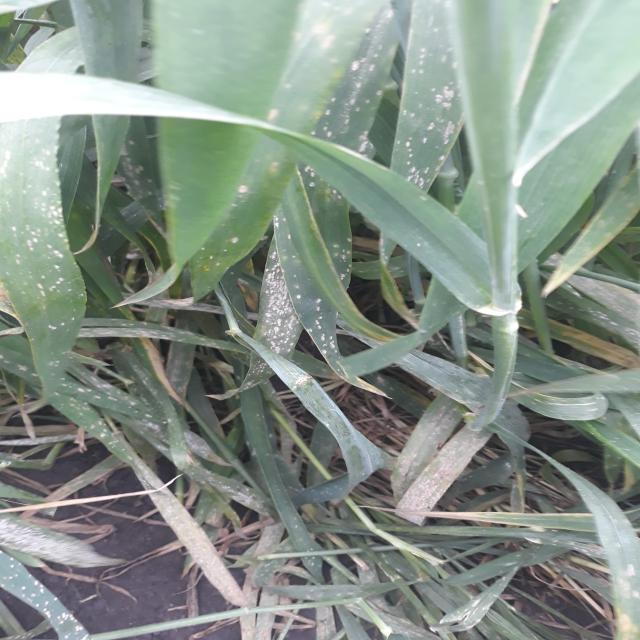powder_mildew: (252, 0, 470, 212), (228, 164, 398, 418), (0, 109, 96, 416), (504, 249, 640, 461), (513, 462, 640, 640), (123, 462, 264, 622), (351, 392, 513, 529), (262, 512, 413, 640), (86, 364, 240, 463), (404, 298, 506, 413), (540, 171, 640, 275), (108, 127, 190, 243), (0, 551, 101, 640), (416, 538, 504, 638), (117, 245, 240, 312), (95, 308, 236, 361), (0, 518, 130, 570), (0, 458, 115, 515), (243, 422, 307, 520), (0, 418, 85, 472), (306, 468, 360, 512)
